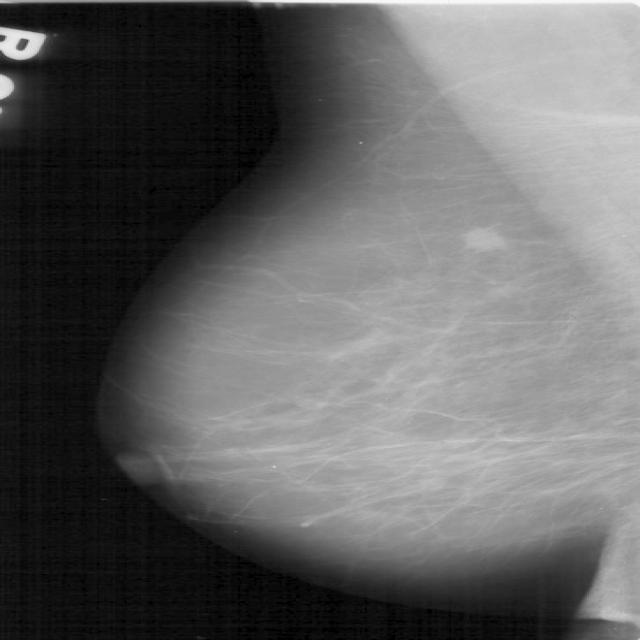tumour: (458, 226, 502, 252)
